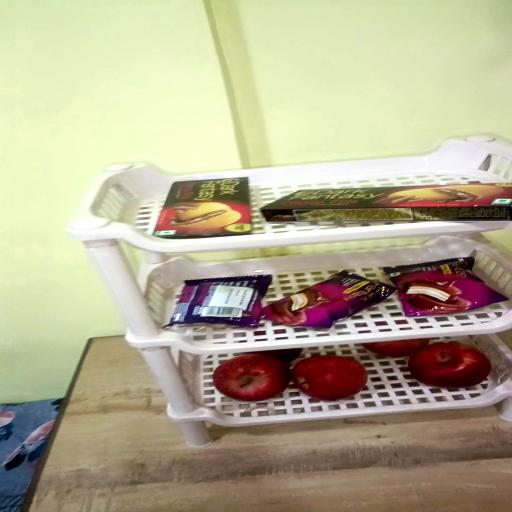Apple: (213, 353, 291, 402), (409, 342, 491, 387), (292, 356, 367, 401), (363, 339, 429, 357), (247, 348, 302, 363)
Choco Fills: (260, 183, 512, 223), (153, 177, 252, 239)
Choco Pie: (262, 270, 395, 329), (384, 257, 508, 316), (166, 275, 272, 327)
